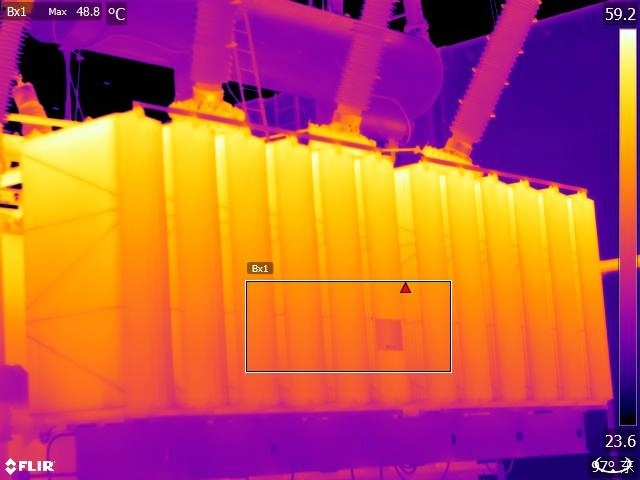oil conservator: (7, 1, 449, 128)
transformer: (17, 106, 611, 436)
tube: (448, 1, 549, 159), (324, 1, 396, 140), (170, 1, 251, 118), (1, 1, 30, 132), (12, 76, 57, 142)
